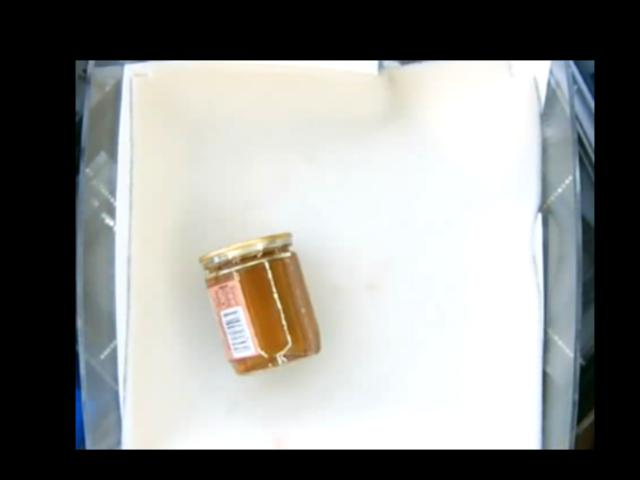Bottle: (197, 234, 321, 374)
